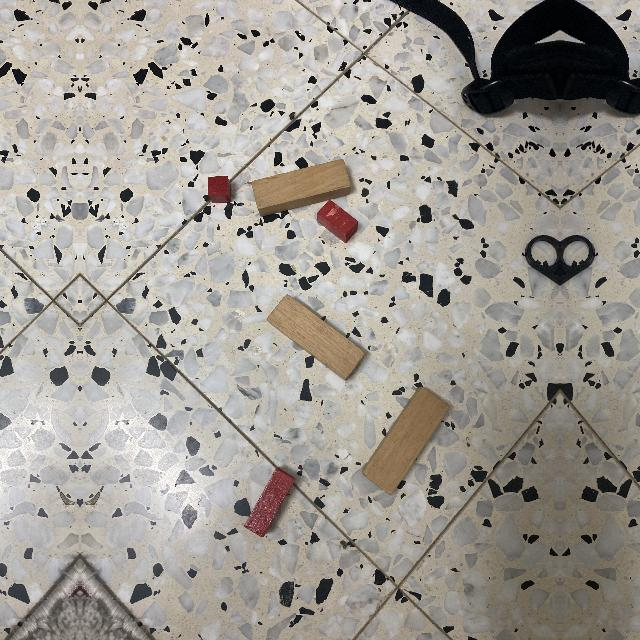jenga: (361, 387, 451, 496), (267, 294, 365, 381), (251, 159, 351, 217)
red block: (244, 468, 295, 538), (317, 200, 358, 244)
red cube: (208, 176, 231, 203)
